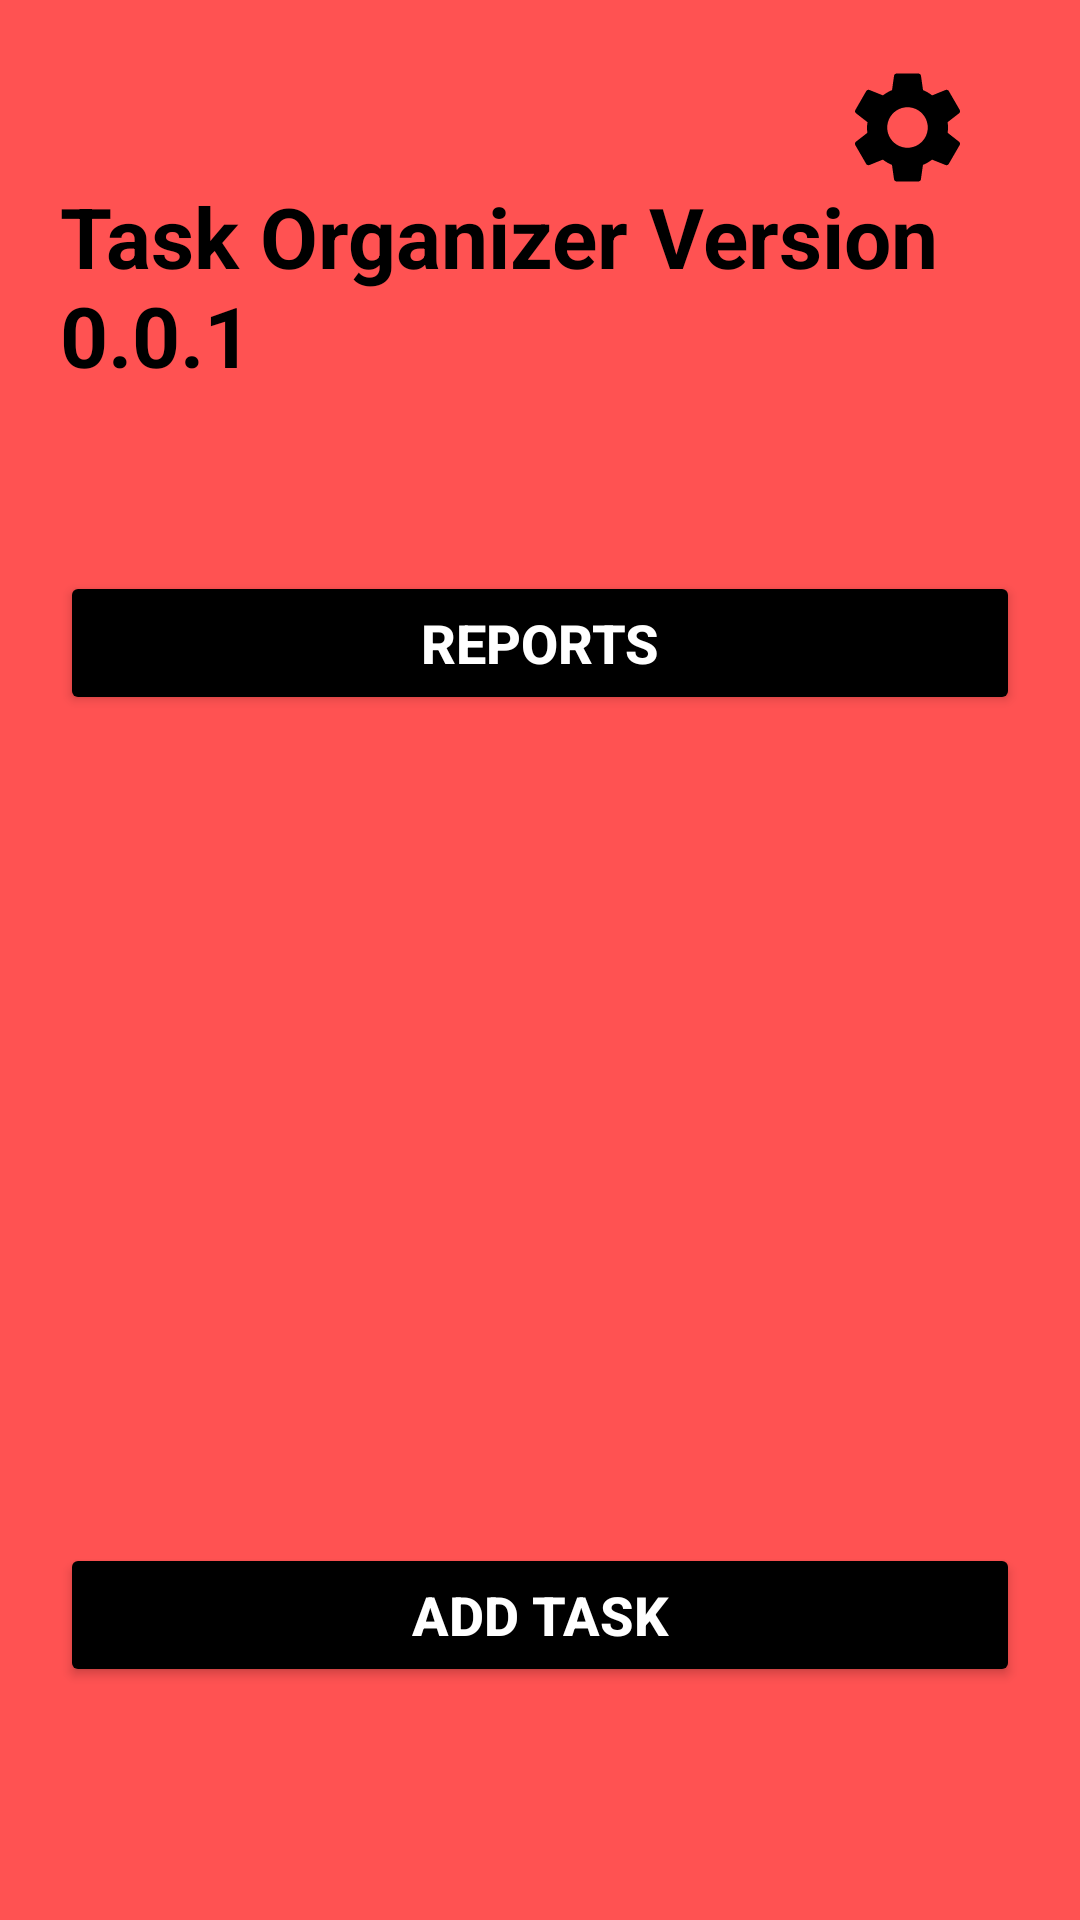

Icons on this 1080w x 1920h Android screen, each with its box as detection(x1, y1, x2, y2):
settings: detection(855, 73, 960, 182)
